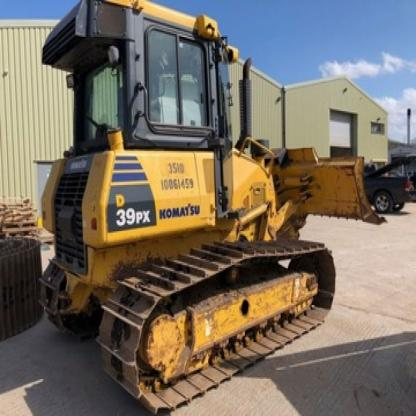bull_dozer/loader/grader: (27, 3, 391, 414)
